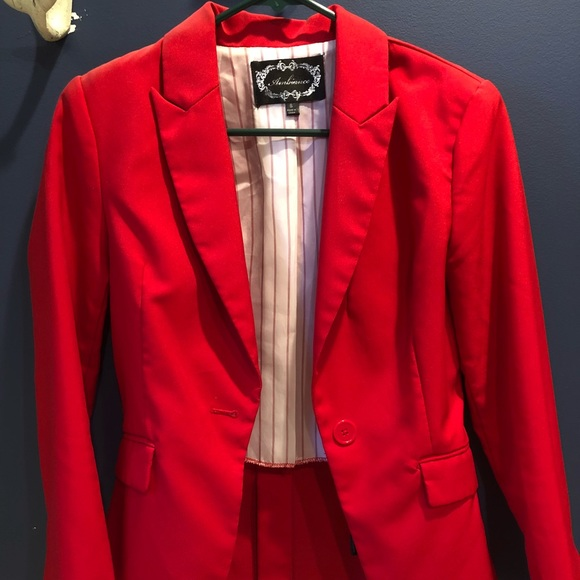F_W_suit jacket: (29, 41, 561, 562)
